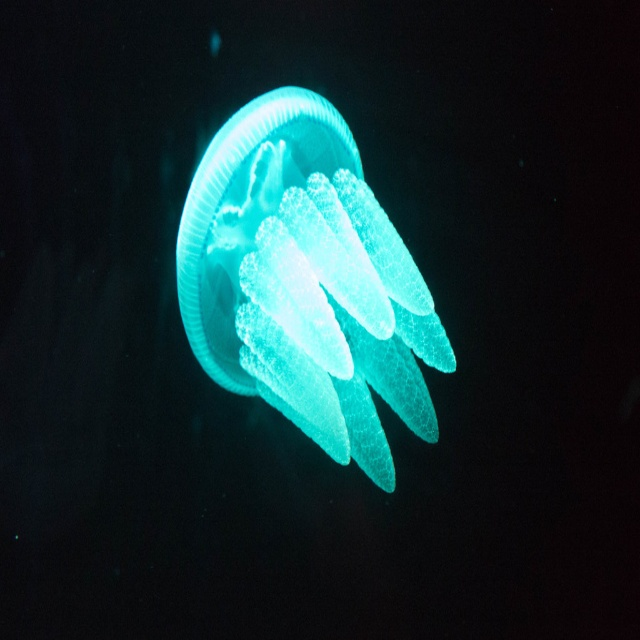Jellyfish: (176, 86, 456, 494)
